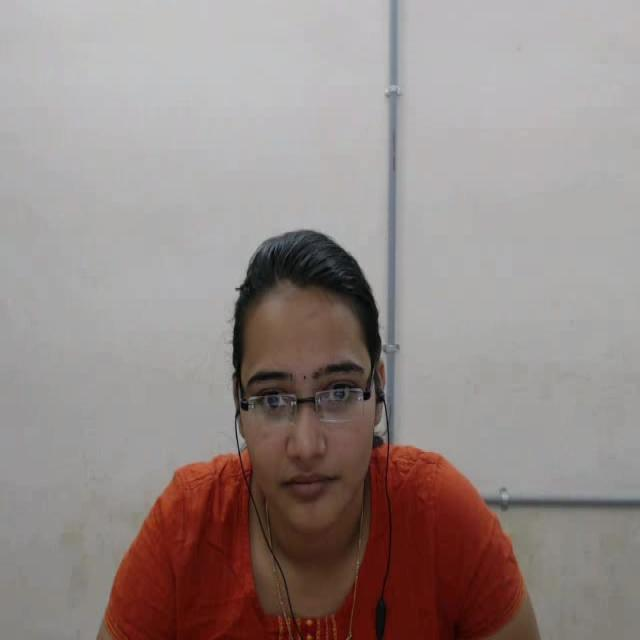Engaged: (198, 227, 438, 567)
